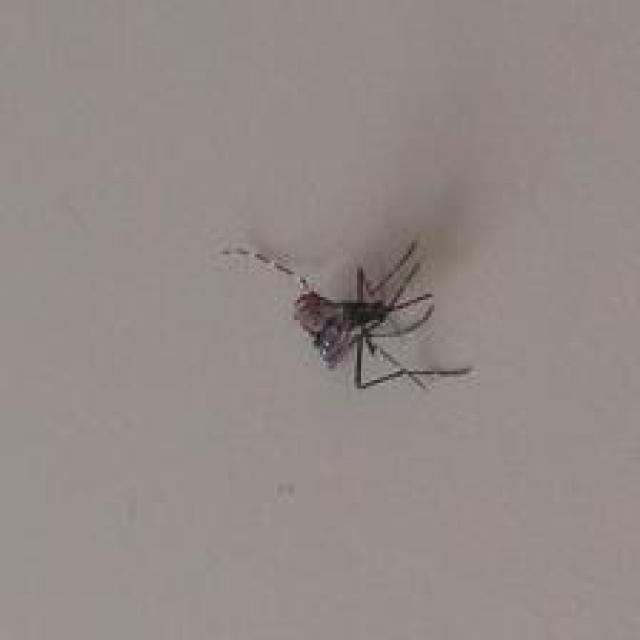Aedes albopictus: (218, 236, 473, 393)
